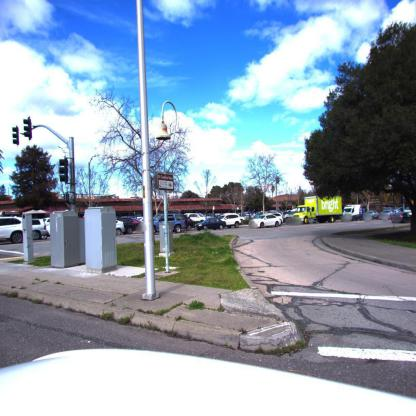car: (1, 216, 51, 245), (153, 213, 187, 233), (0, 217, 24, 245), (249, 213, 284, 228), (116, 216, 141, 235), (198, 216, 226, 230), (344, 204, 366, 221), (219, 214, 242, 228), (185, 214, 206, 228), (390, 209, 406, 224), (379, 209, 394, 221), (364, 211, 380, 221), (403, 210, 412, 220)
sign: (154, 168, 176, 192)
traffic light: (58, 158, 69, 184), (24, 117, 33, 141), (13, 126, 20, 146)
truck: (302, 197, 344, 224)
